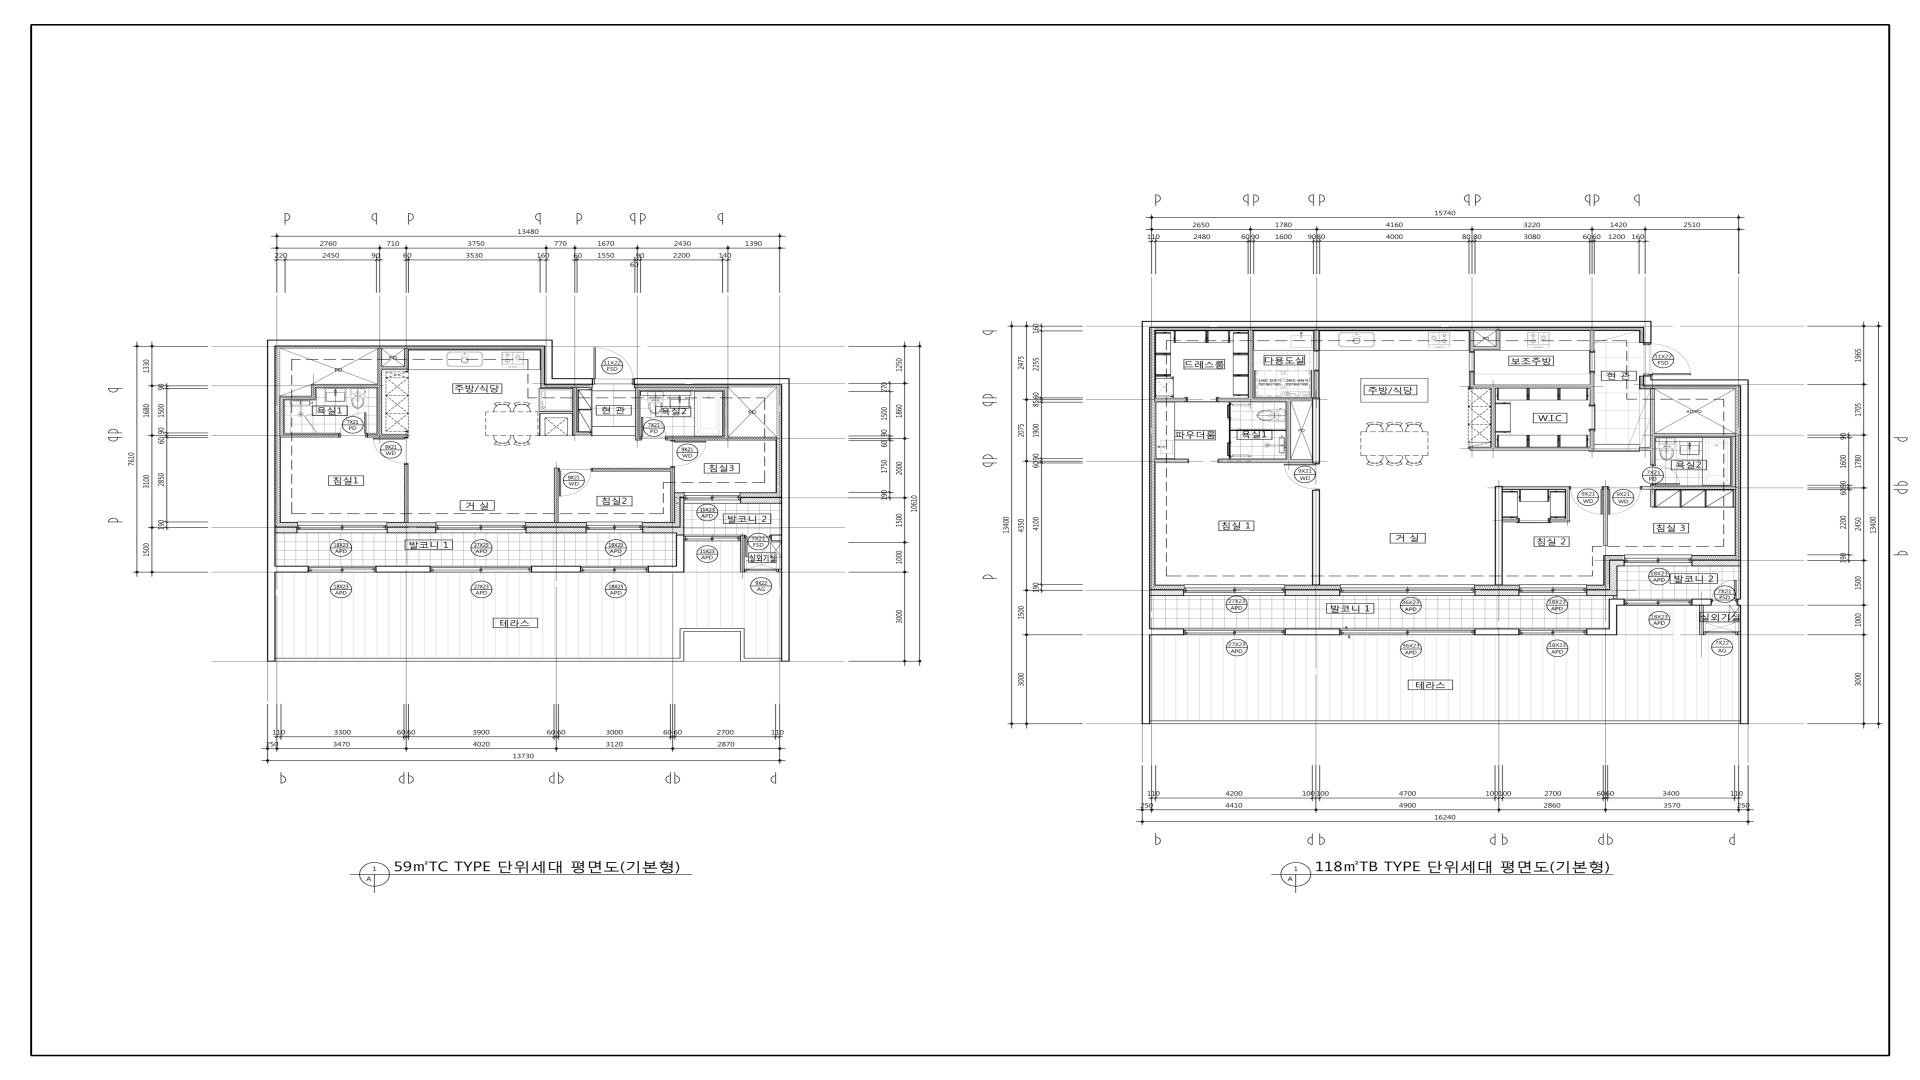door: (592, 347, 634, 385), (1650, 344, 1692, 375), (372, 438, 409, 464), (670, 440, 707, 467), (559, 468, 592, 496), (1609, 488, 1640, 514), (1571, 488, 1602, 514), (1283, 464, 1316, 489), (339, 411, 368, 438), (641, 417, 667, 440), (745, 534, 770, 558), (1652, 465, 1680, 484), (1712, 580, 1737, 600), (1228, 405, 1251, 421), (1226, 442, 1251, 456), (305, 413, 316, 433), (1519, 518, 1549, 524), (1187, 397, 1217, 402), (1589, 406, 1596, 430), (1313, 351, 1320, 371), (1589, 352, 1594, 372), (1469, 352, 1474, 372)
wall: (1142, 320, 1651, 636), (1643, 376, 1749, 634), (266, 340, 276, 572), (276, 340, 553, 347), (781, 385, 790, 572), (1586, 599, 1625, 636), (1586, 559, 1625, 596), (634, 378, 790, 385), (1494, 487, 1503, 585), (1312, 489, 1320, 584), (1312, 398, 1320, 464), (1469, 385, 1590, 389), (1470, 447, 1590, 451), (377, 348, 382, 434), (667, 436, 777, 440), (1650, 388, 1655, 465), (526, 526, 587, 533), (1602, 487, 1609, 546), (1692, 559, 1741, 567), (1217, 398, 1312, 402), (1218, 459, 1312, 463), (1284, 589, 1340, 596), (1247, 330, 1253, 398), (376, 566, 430, 572), (636, 386, 724, 390), (642, 526, 684, 534), (531, 566, 580, 572), (388, 526, 436, 533), (1490, 388, 1495, 447), (592, 468, 670, 472), (404, 464, 409, 522), (676, 534, 684, 572), (545, 347, 553, 385), (1474, 589, 1519, 596), (1284, 629, 1340, 634), (670, 467, 675, 522), (554, 468, 559, 522), (740, 497, 781, 504), (1731, 436, 1737, 487), (636, 390, 641, 440), (553, 378, 592, 385), (311, 384, 377, 388), (572, 386, 578, 435), (1642, 487, 1737, 489), (1474, 629, 1519, 634), (1287, 401, 1291, 459), (1150, 589, 1184, 596), (284, 434, 339, 438), (276, 566, 309, 572), (1655, 434, 1737, 436), (724, 386, 728, 436), (740, 535, 745, 572), (647, 566, 676, 572), (1502, 487, 1569, 489), (368, 434, 409, 438), (1698, 605, 1704, 636), (679, 497, 684, 527), (1565, 489, 1571, 518), (280, 400, 284, 438), (1315, 371, 1320, 398), (1154, 459, 1189, 463), (276, 526, 297, 533), (1590, 372, 1594, 406), (1692, 599, 1712, 605), (1154, 398, 1187, 402), (280, 396, 311, 400), (1474, 345, 1501, 349), (382, 367, 409, 371), (1650, 489, 1655, 508), (404, 348, 409, 367), (1590, 330, 1594, 352), (1470, 330, 1474, 352), (1590, 430, 1594, 451), (1495, 330, 1501, 345), (1315, 330, 1319, 351), (770, 534, 781, 542), (1549, 518, 1571, 522), (1502, 518, 1519, 522), (1470, 372, 1474, 385), (578, 431, 591, 435), (311, 388, 315, 400), (1639, 447, 1650, 451), (315, 400, 316, 413), (1737, 632, 1741, 636), (1613, 596, 1618, 599), (778, 568, 781, 572)
window: (1340, 584, 1474, 596), (1184, 584, 1284, 596), (297, 522, 388, 533), (436, 522, 526, 533), (1519, 584, 1586, 596), (1340, 629, 1474, 634), (1625, 555, 1692, 566), (430, 566, 531, 572), (1183, 629, 1284, 636), (684, 492, 740, 504), (587, 522, 642, 533), (309, 566, 376, 572), (580, 566, 647, 572), (1625, 599, 1692, 605), (1519, 629, 1586, 634), (684, 535, 740, 541), (745, 568, 778, 572), (1704, 632, 1737, 634)
